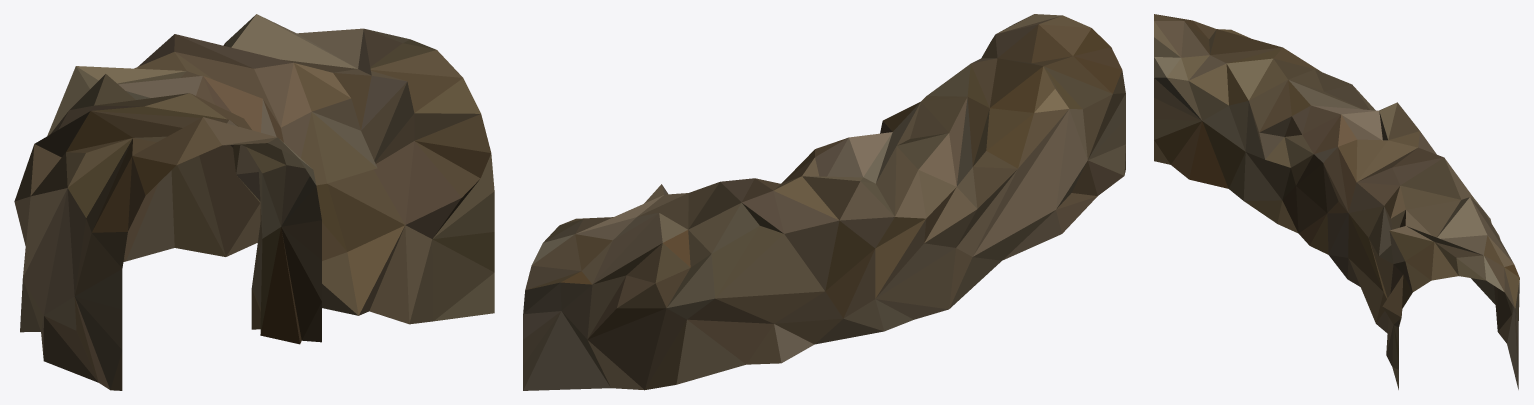
Rendered from Cave-TurnSlope20mA.fbx.
3 renders of one model, left to right at view 1: azimuth 30°, elevation 25°; view 2: azimuth 150°, elevation 25°; view 3: azimuth 270°, elevation 25°, orthographic. The views are drawn at different scales.
Visible parts, largest first — view 1: Cave-TurnSlope20mA; view 2: Cave-TurnSlope20mA; view 3: Cave-TurnSlope20mA.
Boxes of the visible parts, x1,y1,x2,y2 form: Cave-TurnSlope20mA: (14,14,494,390); Cave-TurnSlope20mA: (523,14,1125,390); Cave-TurnSlope20mA: (1154,14,1519,389).
Size of the model in its own units: 1536 by 1123 by 1528.
